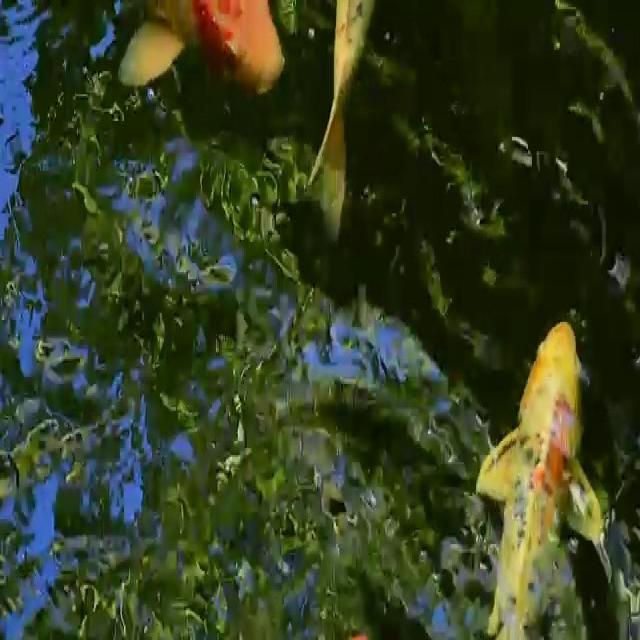fish: (472, 282, 602, 640), (116, 0, 287, 114)
